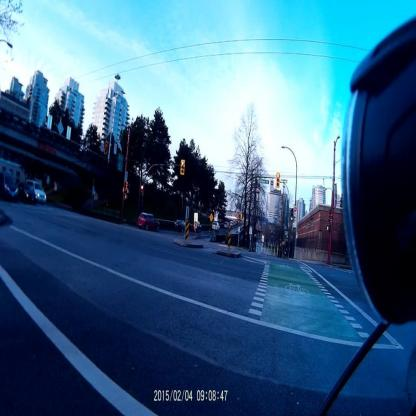Car: (3, 173, 22, 200), (28, 181, 48, 204), (140, 214, 162, 232), (20, 181, 35, 203), (176, 220, 186, 231), (214, 222, 221, 231), (226, 223, 231, 231), (231, 222, 236, 228)
